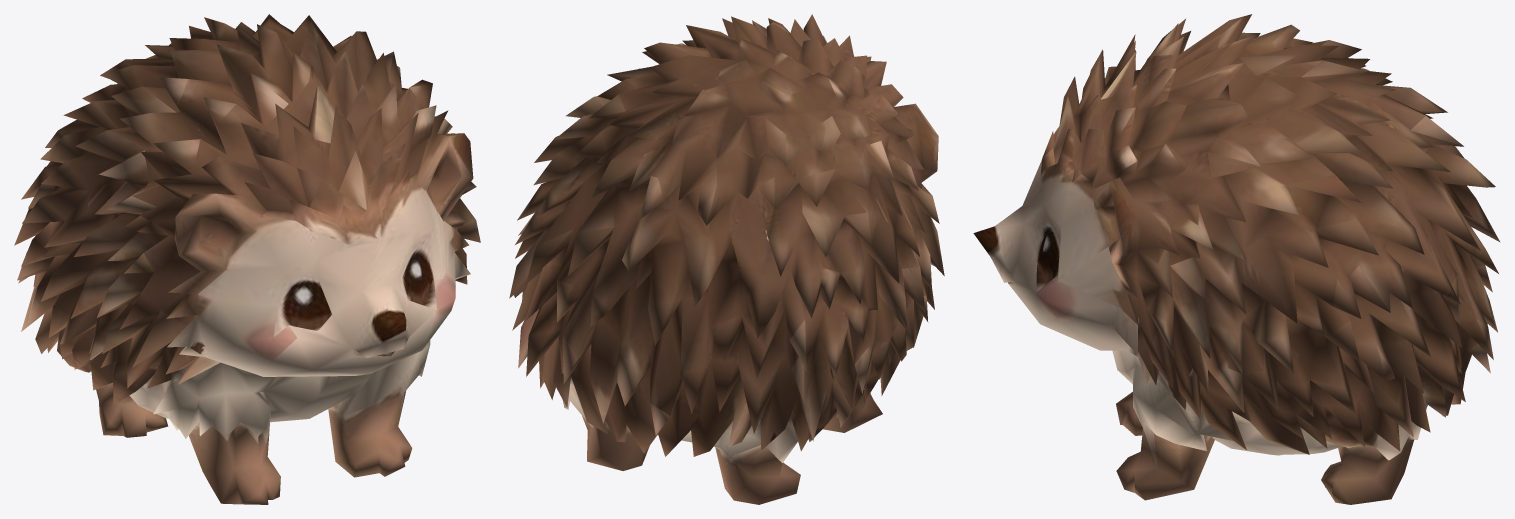
Rendered from hedgehog.glb.
The picture shows the model from 3 angles, left to right: view 1: azimuth 30°, elevation 25°; view 2: azimuth 150°, elevation 25°; view 3: azimuth 270°, elevation 25°; orthographic projection. The views are drawn at different scales.
Parts seen in each view (by area): view 1: model; view 2: model; view 3: model.
Part boxes in pixels (x1,y1,x2,y2): model: (14, 14, 480, 504); model: (509, 14, 944, 504); model: (973, 14, 1500, 504).
Bounding box in the file's own units: 1.67 × 1.69 × 1.91.
1 material, 1 textured.
